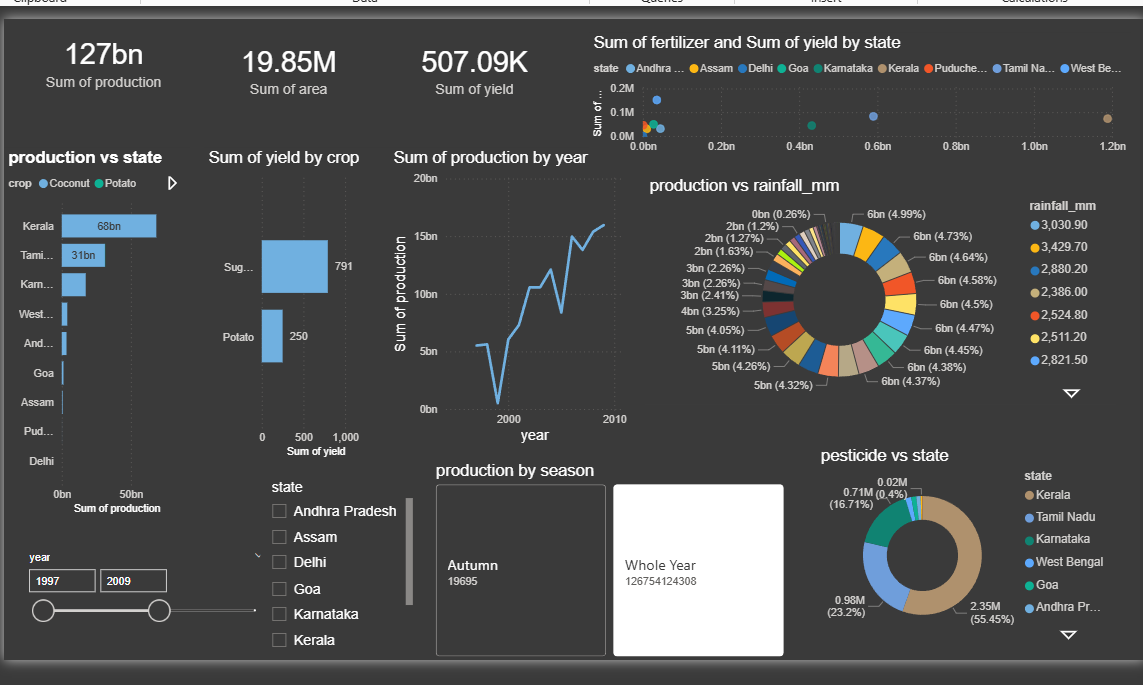

The page's visual inventory and layout, read from the dashboard file:
{"tool":"powerbi","page":{"name":"Page 1","canvas":[1280,720],"ordinal":0},"visuals":[{"type":"actionButton","box":[0,0,100,40],"z":0},{"type":"card","fields":{"Values":["Sum(crop_yield_cleaned.production)"]},"box":[0,16,224,96],"z":1000},{"type":"card","fields":{"Values":["Sum(crop_yield_cleaned.area)"]},"box":[208,0,224,112],"z":2000},{"type":"card","fields":{"Values":["Sum(crop_yield_cleaned.yield)"]},"box":[432,0,192,112],"z":3000},{"type":"barChart","title":" production vs state","fields":{"Category":["crop_yield_cleaned.state"],"Y":["Sum(crop_yield_cleaned.production)"],"Series":["crop_yield_cleaned.crop"]},"box":[0,144,208,416],"z":4000},{"type":"barChart","fields":{"Category":["crop_yield_cleaned.crop"],"Y":["Sum(crop_yield_cleaned.yield)"]},"box":[224,144,208,352],"z":5000},{"type":"lineChart","fields":{"Category":["crop_yield_cleaned.year"],"Y":["Sum(crop_yield_cleaned.production)"]},"box":[432,144,272,336],"z":6000},{"type":"scatterChart","fields":{"X":["Sum(crop_yield_cleaned.fertilizer)"],"Y":["Sum(crop_yield_cleaned.yield)"],"Series":["crop_yield_cleaned.state"]},"box":[656,16,608,144],"z":7000},{"type":"slicer","fields":{"Values":["crop_yield_cleaned.year"]},"box":[16,592,288,96],"z":8000},{"type":"slicer","fields":{"Values":["crop_yield_cleaned.state"]},"box":[288,512,176,208],"z":9000},{"type":"advancedSlicerVisual","title":"production by season","fields":{"Values":["crop_yield_cleaned.season"],"Label":["Sum(crop_yield_cleaned.production)"]},"box":[480,496,400,224],"z":10000},{"type":"donutChart","title":" production vs  rainfall_mm","fields":{"Y":["Sum(crop_yield_cleaned.production)","Sum(crop_yield_cleaned.yield)"],"Category":["crop_yield_cleaned.rainfall_mm"]},"box":[720,176,528,256],"z":11000},{"type":"donutChart","title":"pesticide vs state","fields":{"Category":["crop_yield_cleaned.state"],"Y":["Sum(crop_yield_cleaned.pesticide)"]},"box":[912,480,336,224],"z":12000}]}

Visuals, with their boxes on the page's 1280x720 design canvas (x1, y1, x2, y2). These are canvas units, not pixel positions in the 1143x685 screenshot, which may show the page scaled, cropped or inside an application window:
actionButton: x1=0, y1=0, x2=100, y2=40
card - Sum(crop_yield_cleaned.production): x1=0, y1=16, x2=224, y2=112
card - Sum(crop_yield_cleaned.area): x1=208, y1=0, x2=432, y2=112
card - Sum(crop_yield_cleaned.yield): x1=432, y1=0, x2=624, y2=112
" production vs state" barChart: x1=0, y1=144, x2=208, y2=560
barChart - crop_yield_cleaned.crop x Sum(crop_yield_cleaned.yield): x1=224, y1=144, x2=432, y2=496
lineChart - crop_yield_cleaned.year x Sum(crop_yield_cleaned.production): x1=432, y1=144, x2=704, y2=480
scatterChart - Sum(crop_yield_cleaned.fertilizer) x Sum(crop_yield_cleaned.yield): x1=656, y1=16, x2=1264, y2=160
slicer - crop_yield_cleaned.year: x1=16, y1=592, x2=304, y2=688
slicer - crop_yield_cleaned.state: x1=288, y1=512, x2=464, y2=720
"production by season" advancedSlicerVisual: x1=480, y1=496, x2=880, y2=720
" production vs  rainfall_mm" donutChart: x1=720, y1=176, x2=1248, y2=432
"pesticide vs state" donutChart: x1=912, y1=480, x2=1248, y2=704
